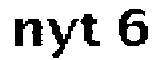6: (115, 6, 151, 49)
n: (11, 14, 43, 52)
t: (81, 10, 104, 50)
y: (46, 16, 80, 60)
